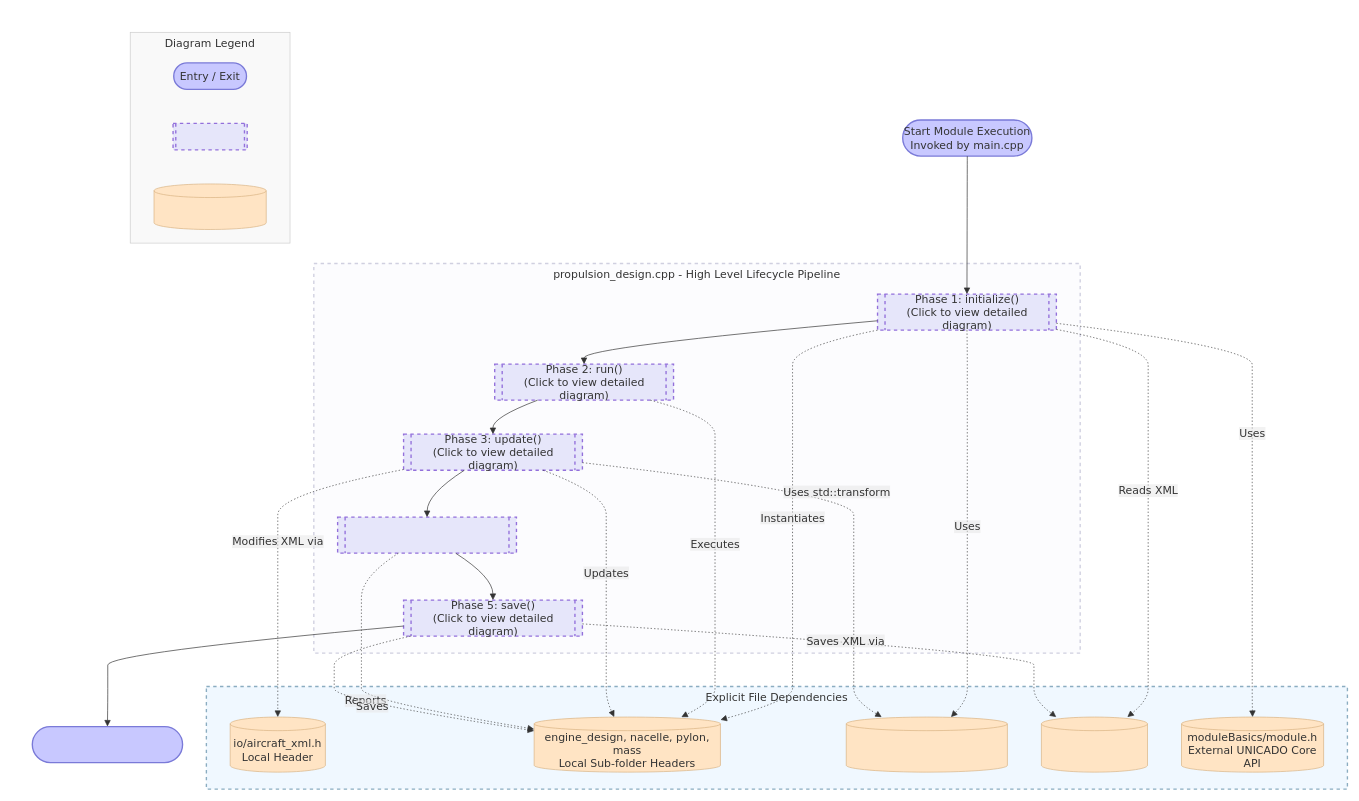
This 1359x801 diagram has some shape labels left out. Here are the shapes that lost their labels. From the top down, the centre of each, then its label:
At (210,136): "Subroutine".
At (209,206): "Data / Dependencies".
At (427,535): "Phase 4: report() (Click to view detailed diagram)".
At (107,744): "End Module Execution Return Success to main.cpp".
At (926,744): "C++ Standard Library algorithm, format, vector, etc.".
At (1094,744): "aixml/node.h External XML Parser".
